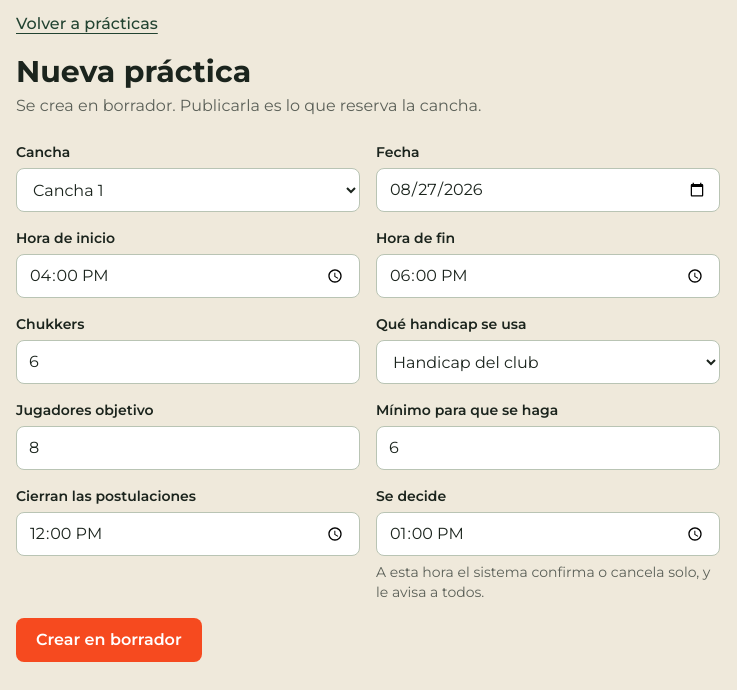
Test: Crear una práctica (T-552) › el rechazo del servidor se explica con el texto del club
Click the button "Crear en borrador" at (109, 640), box [16,618,202,662]
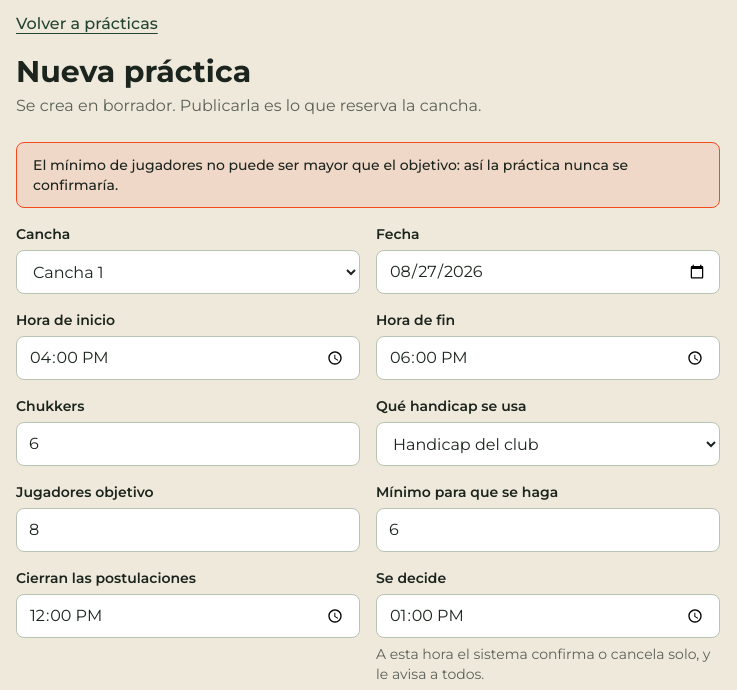
Result: the message shows "El mínimo de jugadores no puede ser mayor que el objetivo: así la práctica nunca se confirmaría." at [33,156,628,194]
